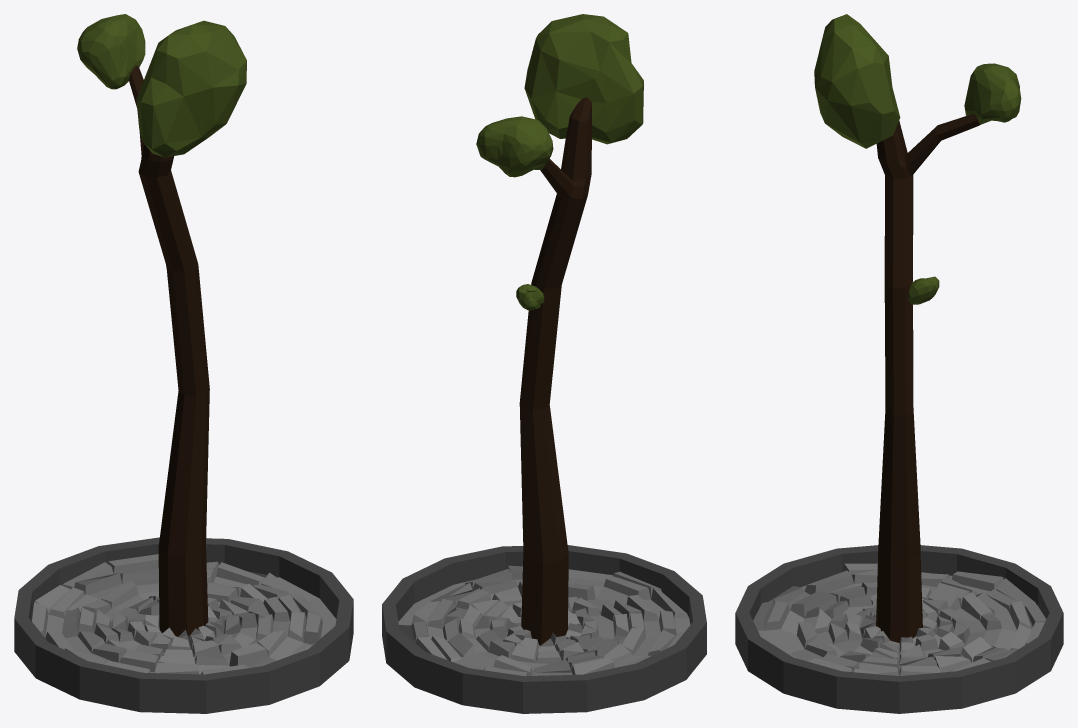
The model's file is Tree.fbx.
3 views of the same model, side by side, from view 1: azimuth 30°, elevation 25°; view 2: azimuth 150°, elevation 25°; view 3: azimuth 270°, elevation 25° (orthographic). The views are drawn at different scales.
Parts seen in each view (by area): view 1: Tree; view 2: Tree; view 3: Tree.
Boxes of the visible parts, x1,y1,x2,y2 form: Tree: (14, 14, 353, 713); Tree: (382, 14, 706, 713); Tree: (735, 14, 1063, 713).
Bounding box in the file's own units: 55.47 × 114 × 55.47.
